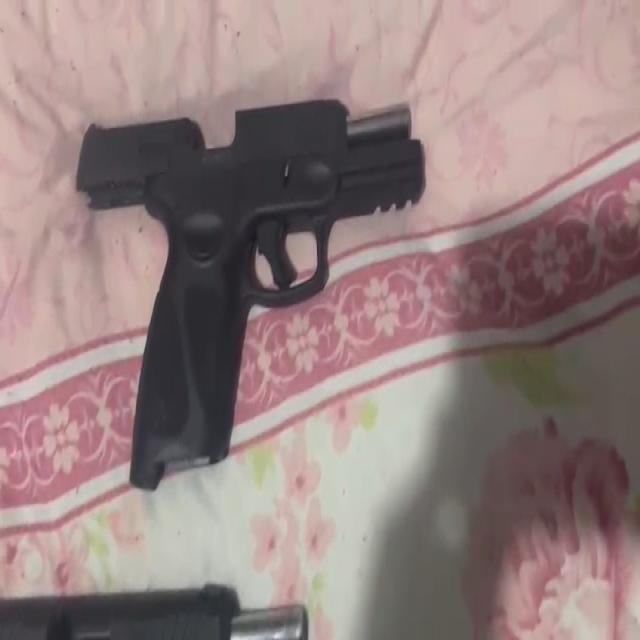gun: (74, 87, 432, 492)
